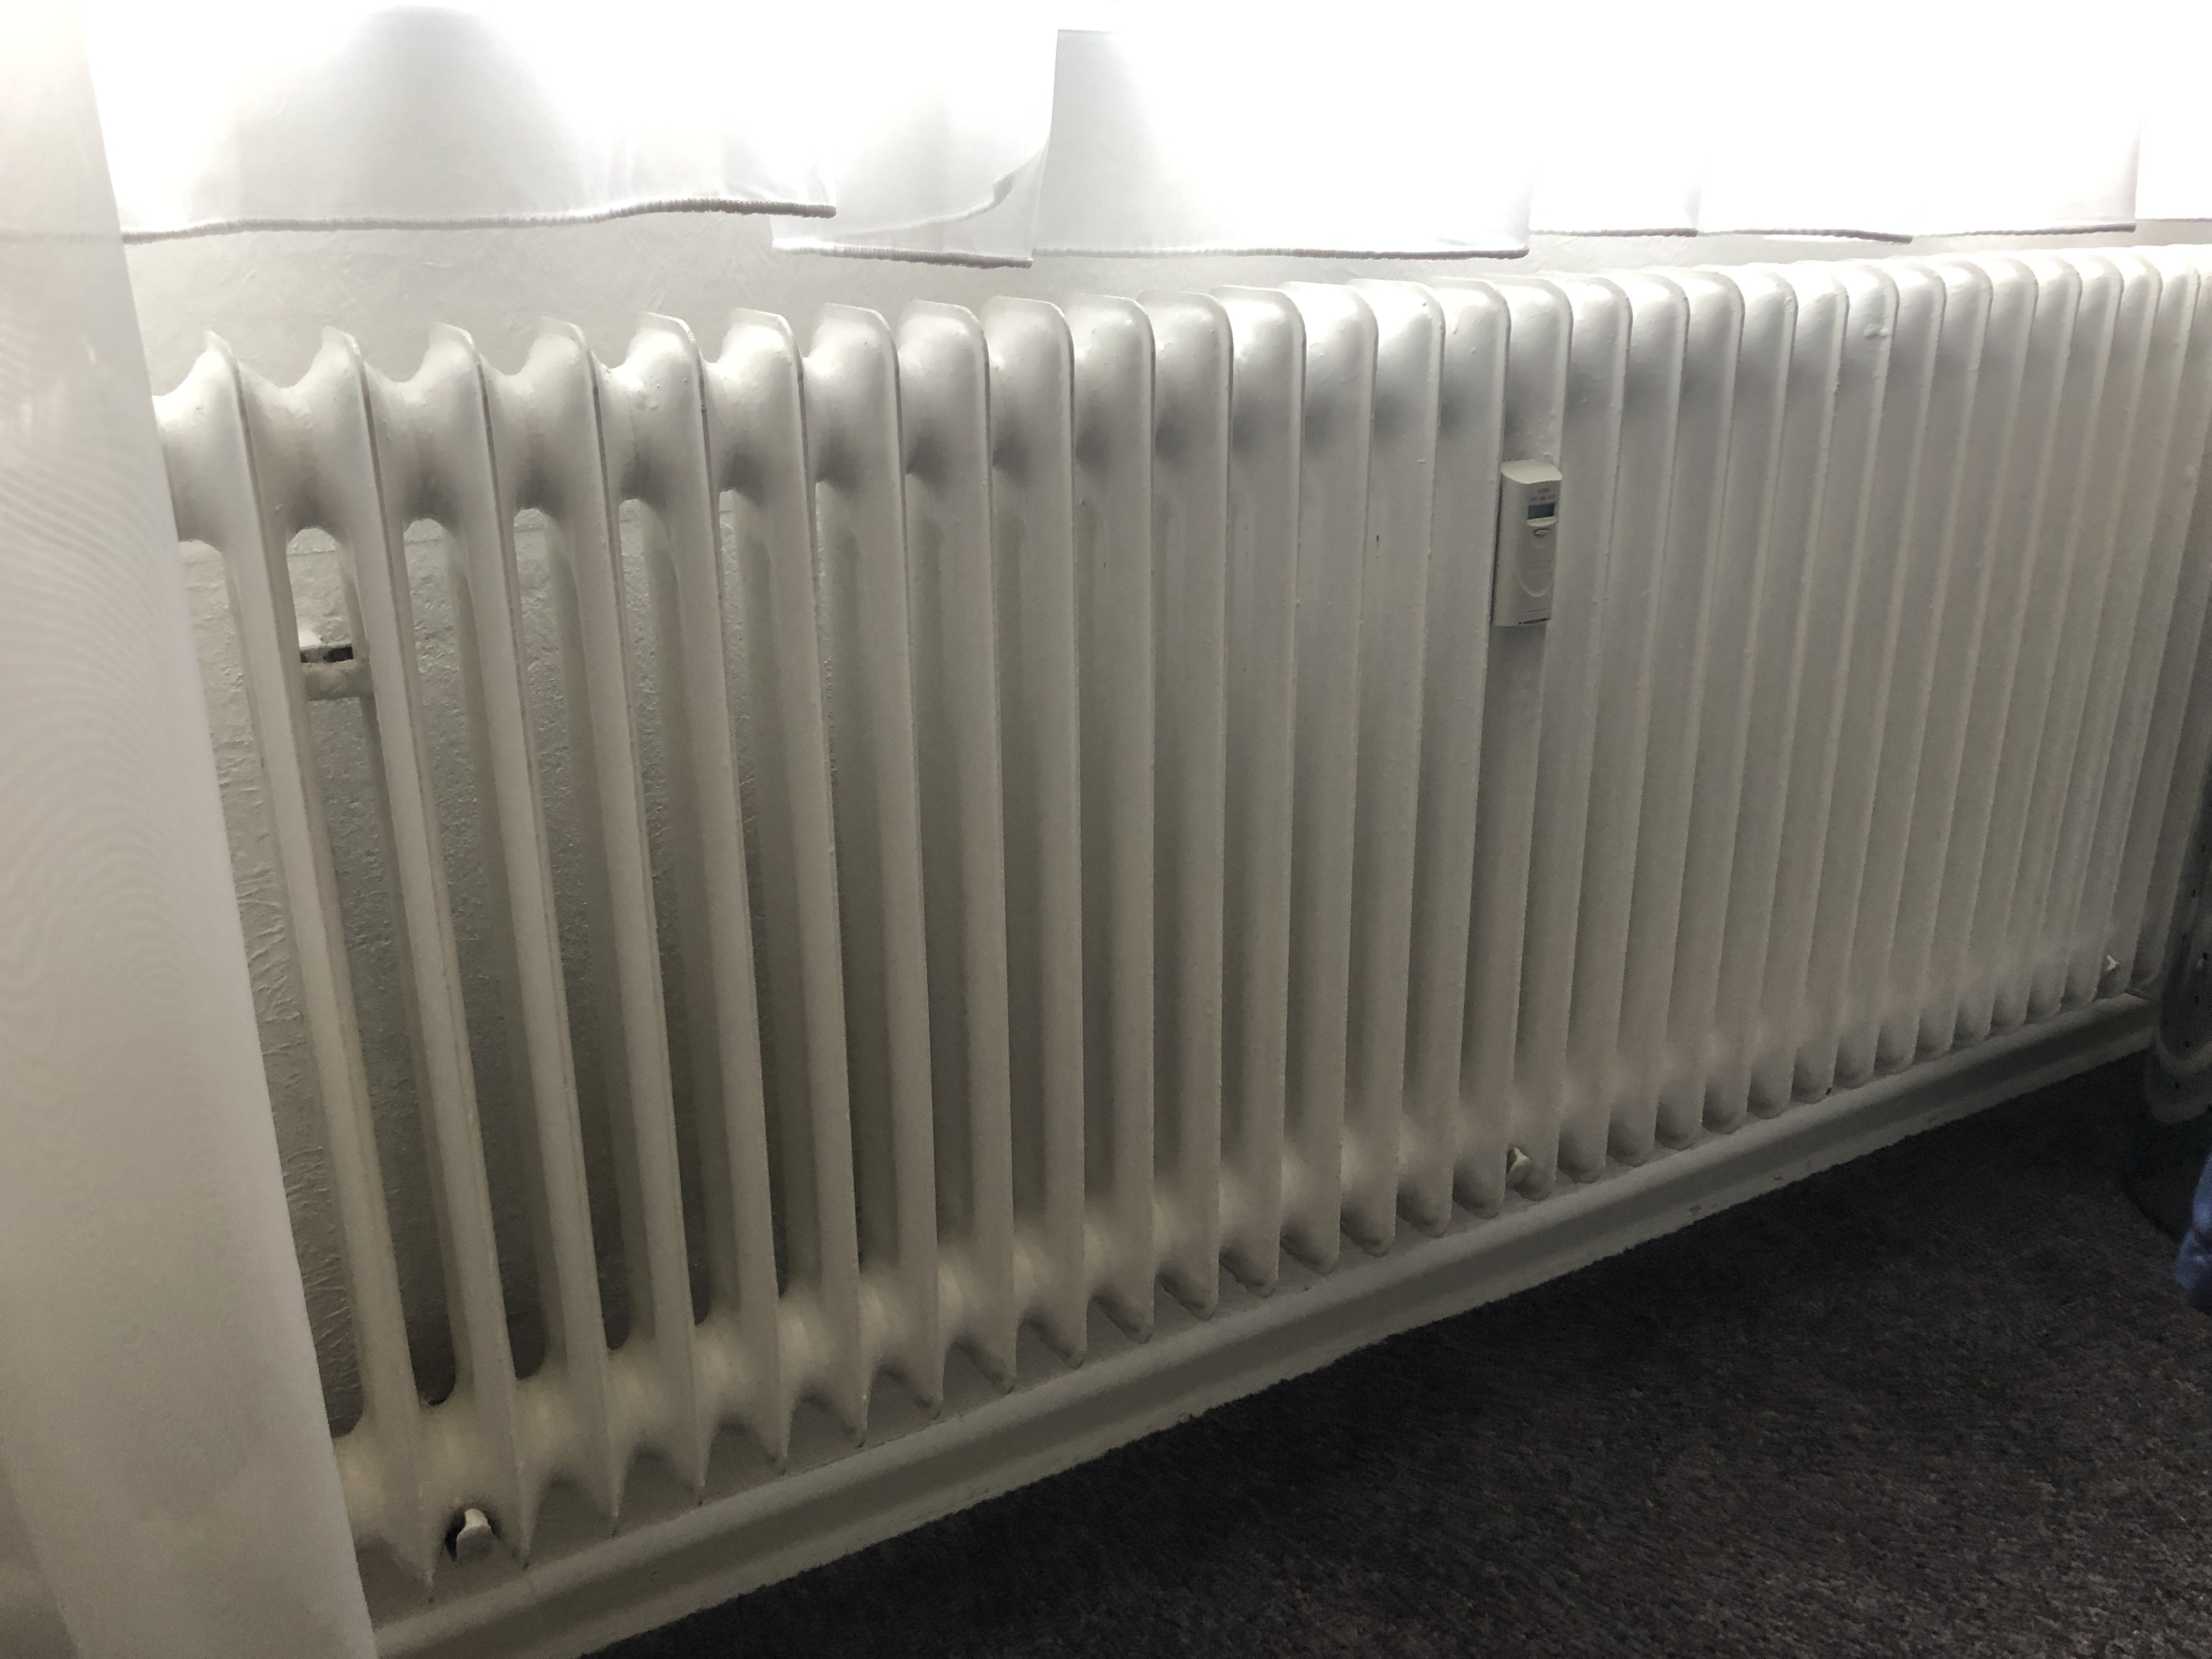Radiator: (45, 221, 2212, 1589)
